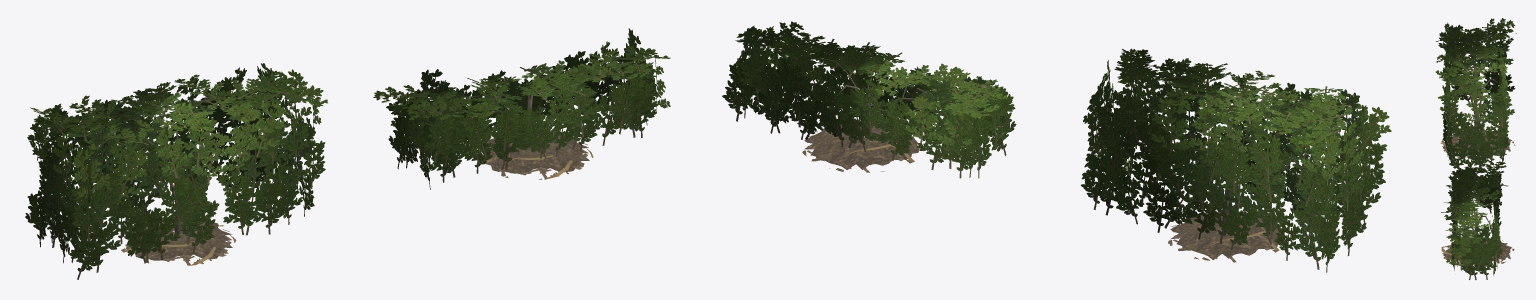
Rendered from hedge_clipped.glb.
3 views of the same model, side by side, from view 1: azimuth 30°, elevation 25°; view 2: azimuth 150°, elevation 25°; view 3: azimuth 270°, elevation 25° (orthographic). The views are drawn at different scales.
Parts seen in each view (by area): view 1: variant_a_lod0, variant_b_lod0; view 2: variant_a_lod0, variant_b_lod0; view 3: variant_a_lod0, variant_b_lod0.
Part boxes in pixels (<box>): variant_a_lod0: <box>25,63,327,279</box>; variant_b_lod0: <box>373,28,670,189</box>; variant_a_lod0: <box>1081,48,1391,272</box>; variant_b_lod0: <box>722,21,1016,178</box>; variant_a_lod0: <box>1435,18,1516,173</box>; variant_b_lod0: <box>1441,160,1514,280</box>.
Size of what is drawn, in the model's own units: 5.36 by 1.34 by 1.09.
Materials: 2 (2 with a texture image).
